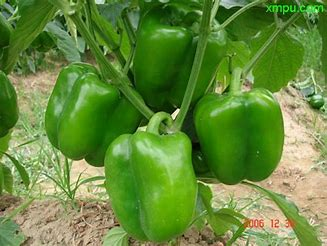fruit_pepper: (102, 109, 198, 243), (41, 55, 146, 170), (189, 66, 286, 186), (132, 1, 225, 111)
